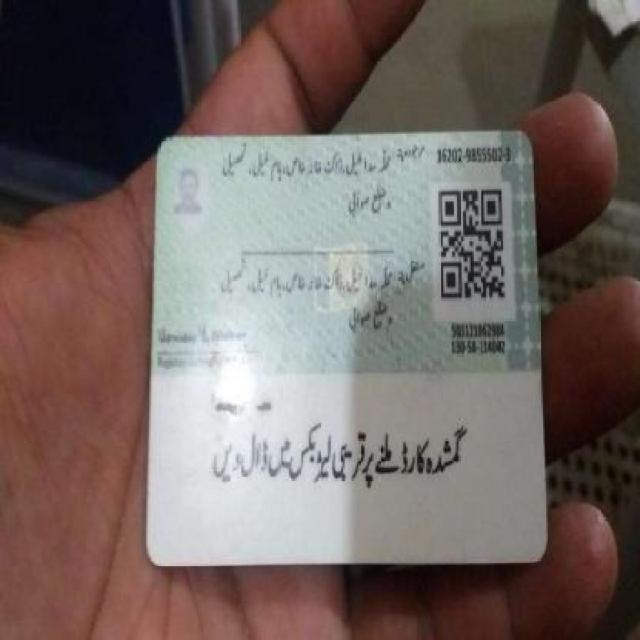Back: (144, 131, 550, 566)
